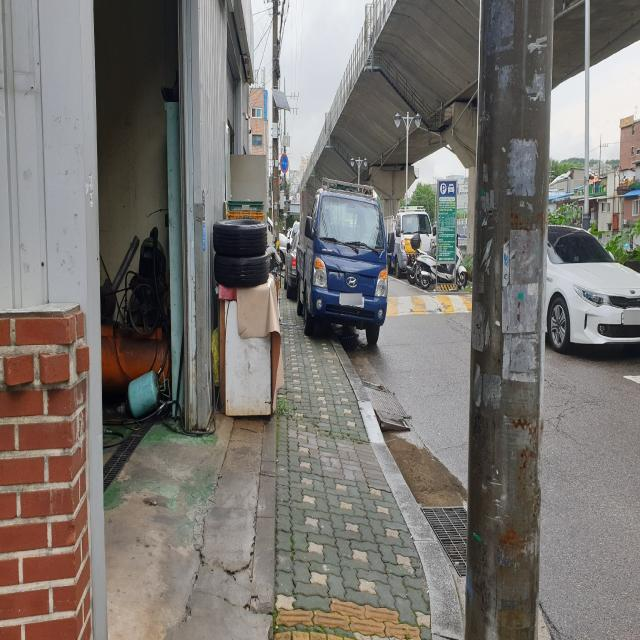car: (296, 177, 388, 343), (545, 224, 640, 354), (384, 206, 436, 279)
motorbike: (410, 232, 467, 290)
